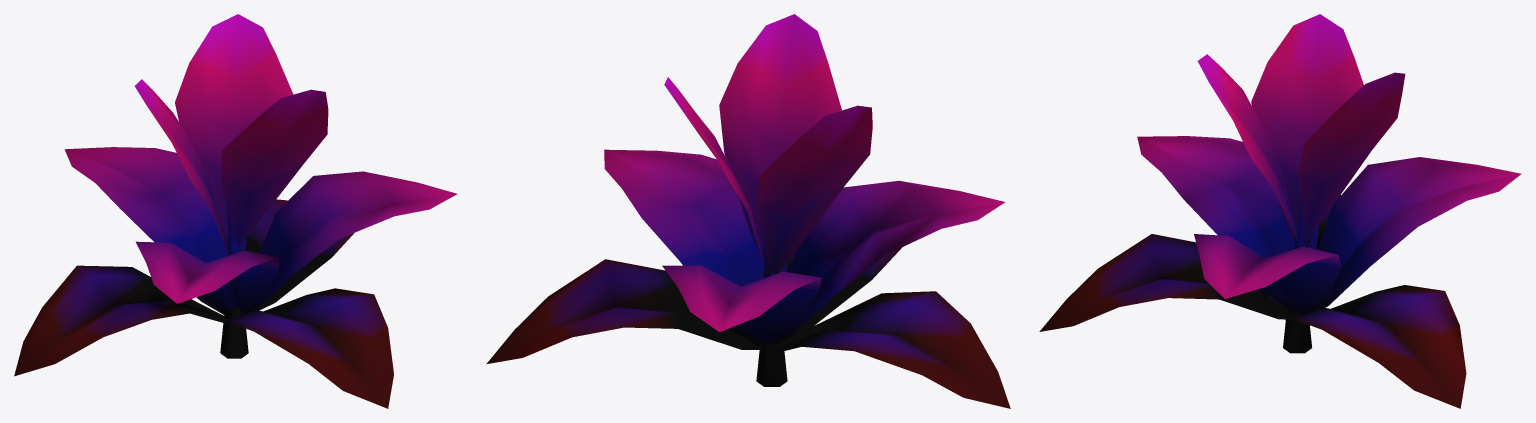
Rendered from Tree_Palmito_03.fbx.
The picture shows the model from 3 angles, left to right: view 1: azimuth 30°, elevation 25°; view 2: azimuth 150°, elevation 25°; view 3: azimuth 270°, elevation 25°; orthographic projection. The views are drawn at different scales.
Parts seen in each view (by area): view 1: Palmito_03; view 2: Palmito_03; view 3: Palmito_03.
Boxes of the visible parts, left/top/right/bottom form: Palmito_03: left=14, top=14, right=457, bottom=408; Palmito_03: left=486, top=14, right=1010, bottom=408; Palmito_03: left=1039, top=14, right=1521, bottom=408.
Size of the model in its own units: 309 by 212 by 308.
